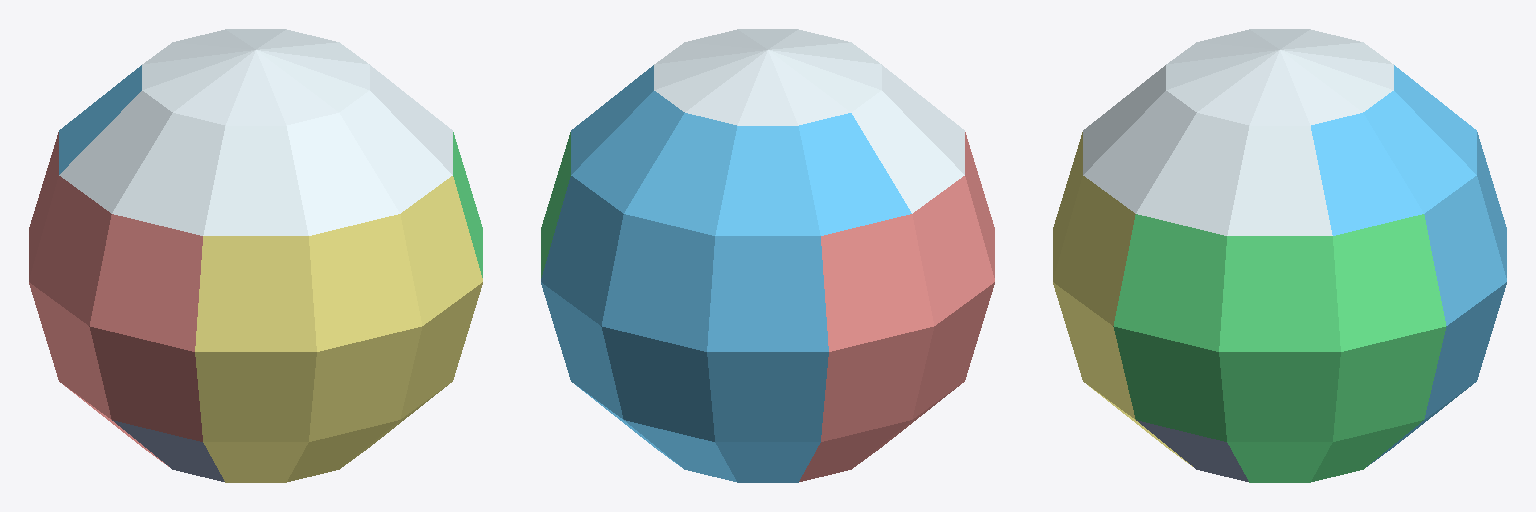
The picture shows the model from 3 angles: view 1: azimuth 30°, elevation 25°; view 2: azimuth 150°, elevation 25°; view 3: azimuth 270°, elevation 25°; orthographic projection.
Parts seen in each view (by area): view 1: sphere; view 2: sphere; view 3: sphere.
Boxes of the visible parts, x1,y1,x2,y2 form: sphere: [29, 29, 482, 482]; sphere: [541, 29, 994, 482]; sphere: [1053, 29, 1506, 482].
Bounding box in the file's own units: 1 × 1 × 1.
Materials: 1 (1 with a texture image).